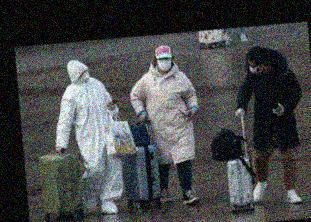with_mask: (157, 56, 172, 71), (248, 61, 261, 76), (78, 69, 91, 82)
